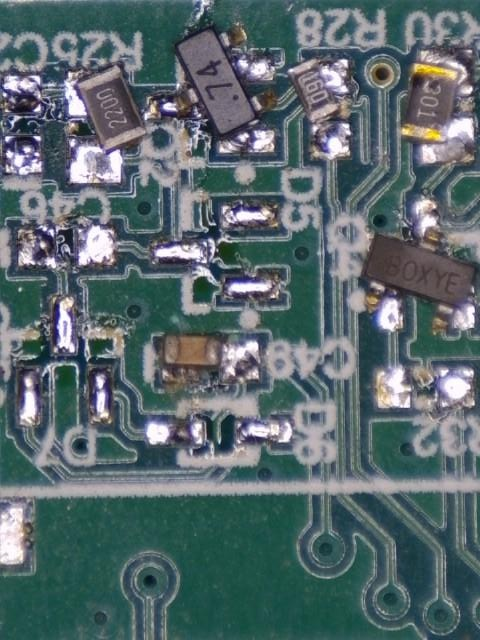pcb_defect: (146, 24, 279, 154), (362, 198, 477, 335), (66, 64, 149, 184), (401, 49, 476, 164), (285, 57, 350, 159), (162, 332, 261, 385)
